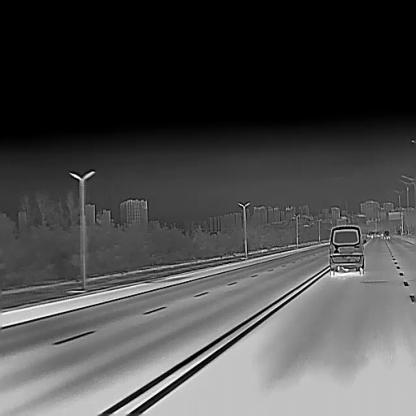car: (328, 224, 367, 276), (383, 230, 389, 239), (368, 231, 373, 238), (375, 231, 379, 237)
